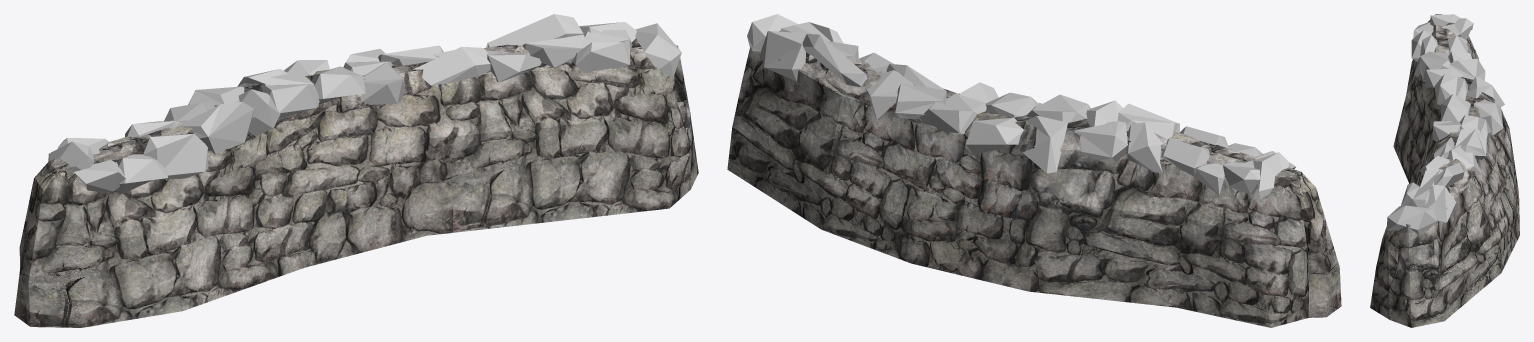
The model's file is Wall_1b_LOD2.fbx.
The picture shows the model from 3 angles, left to right: view 1: azimuth 30°, elevation 25°; view 2: azimuth 150°, elevation 25°; view 3: azimuth 270°, elevation 25°; orthographic projection. The views are drawn at different scales.
Visible parts, largest first — view 1: Wall, Rock; view 2: Wall, Rock; view 3: Wall, Rock.
Boxes of the visible parts, x1,y1,x2,y2 form: Wall: (14,40,698,327); Rock: (48,14,681,194); Wall: (727,47,1341,327); Rock: (747,14,1295,198); Wall: (1370,14,1519,327); Rock: (1387,14,1504,235).
Bounding box in the file's own units: 858 × 240 × 211.
